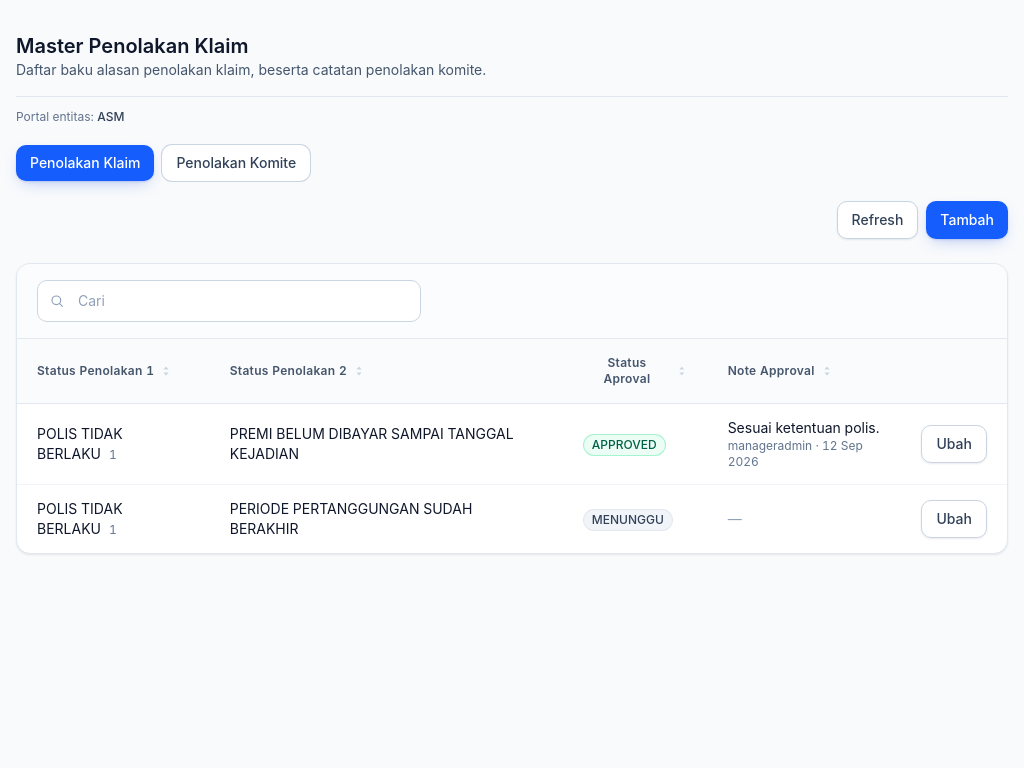
Test case: mengubah penolakan klaim › memperingatkan bahwa menyimpan membatalkan persetujuan yang sudah ada
The image size is (1024, 768).
Click the button with aria-label "Ubah PREMI BELUM DIBAYAR SAMPAI TANGGAL KEJADIAN".
click(954, 444)  # box [922,425,987,463]
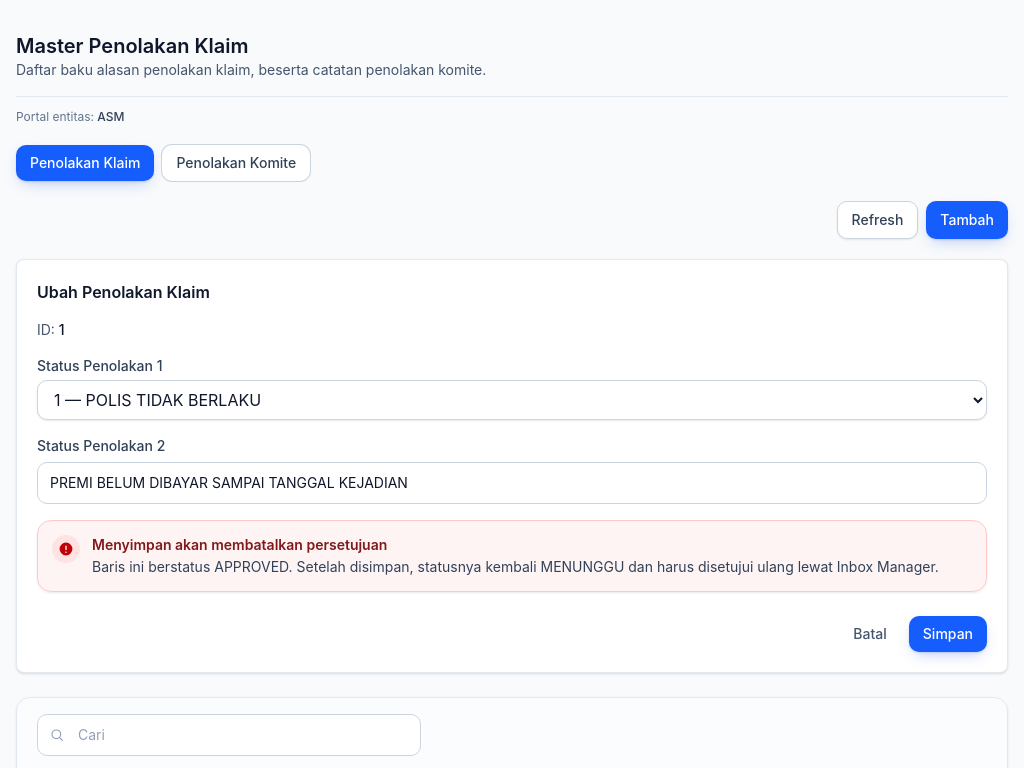
Check: the text "Menyimpan akan membatalkan persetujuan" is shown, box [92,536,387,553]
